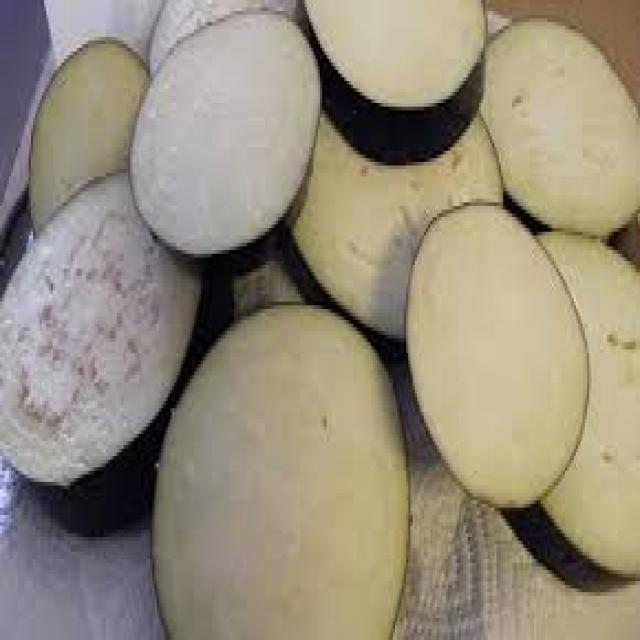eggplant: (140, 306, 419, 632), (0, 162, 221, 515), (277, 81, 516, 372), (118, 6, 319, 283), (410, 194, 591, 501), (495, 222, 640, 590), (472, 0, 640, 243), (278, 0, 496, 174), (18, 26, 154, 238)
